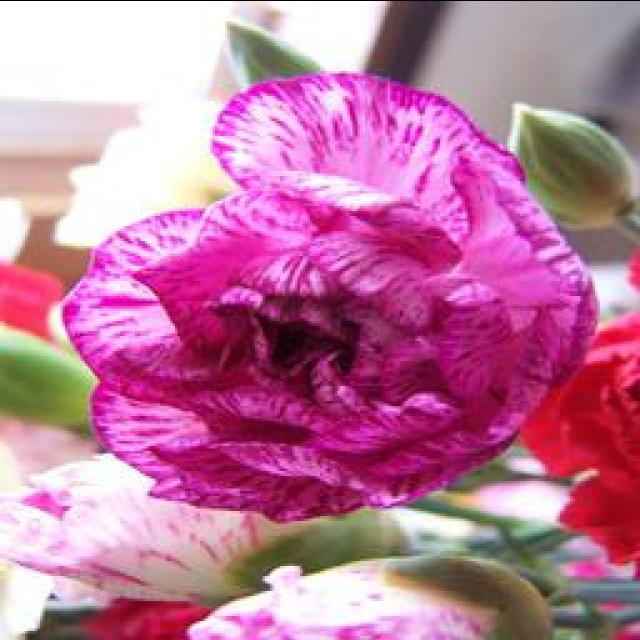carnation: (52, 36, 588, 526)
